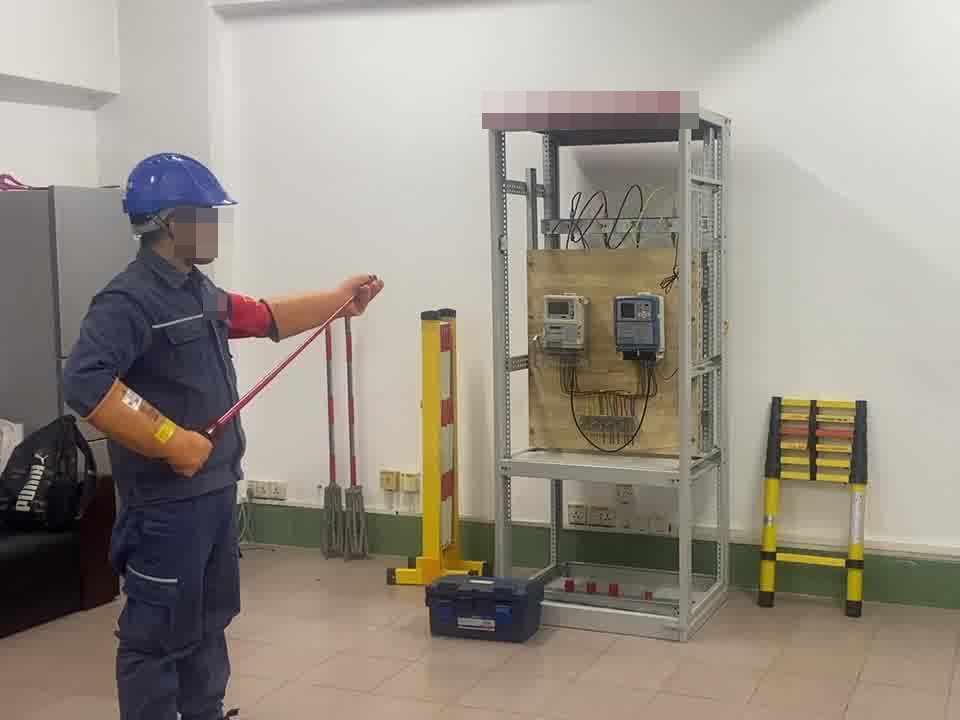badge: (228, 286, 275, 340)
downsuit: (108, 485, 248, 720)
halt: (120, 151, 239, 267)
inear: (156, 206, 201, 251)
longglove: (80, 378, 214, 476), (269, 269, 378, 332)
person: (62, 146, 310, 720)
testrod: (200, 286, 364, 438)
upsuit: (65, 258, 255, 489)
